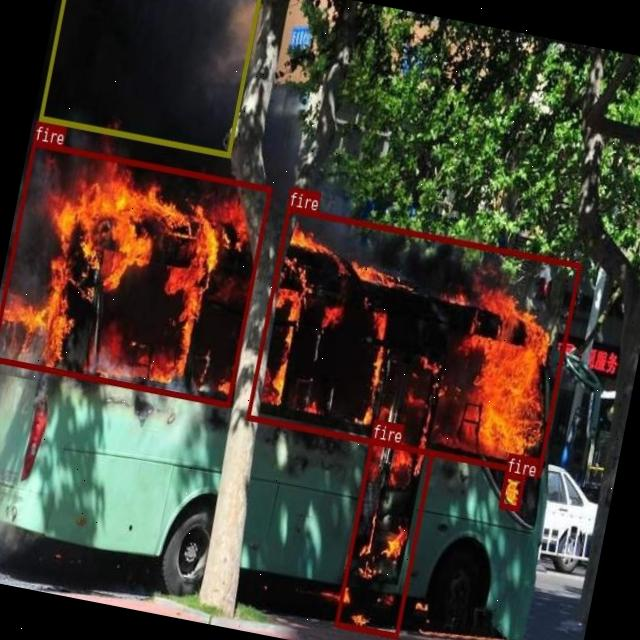fire: (246, 206, 582, 476), (0, 140, 271, 406), (335, 438, 434, 639), (498, 471, 525, 510)
smoke: (37, 0, 262, 157)
